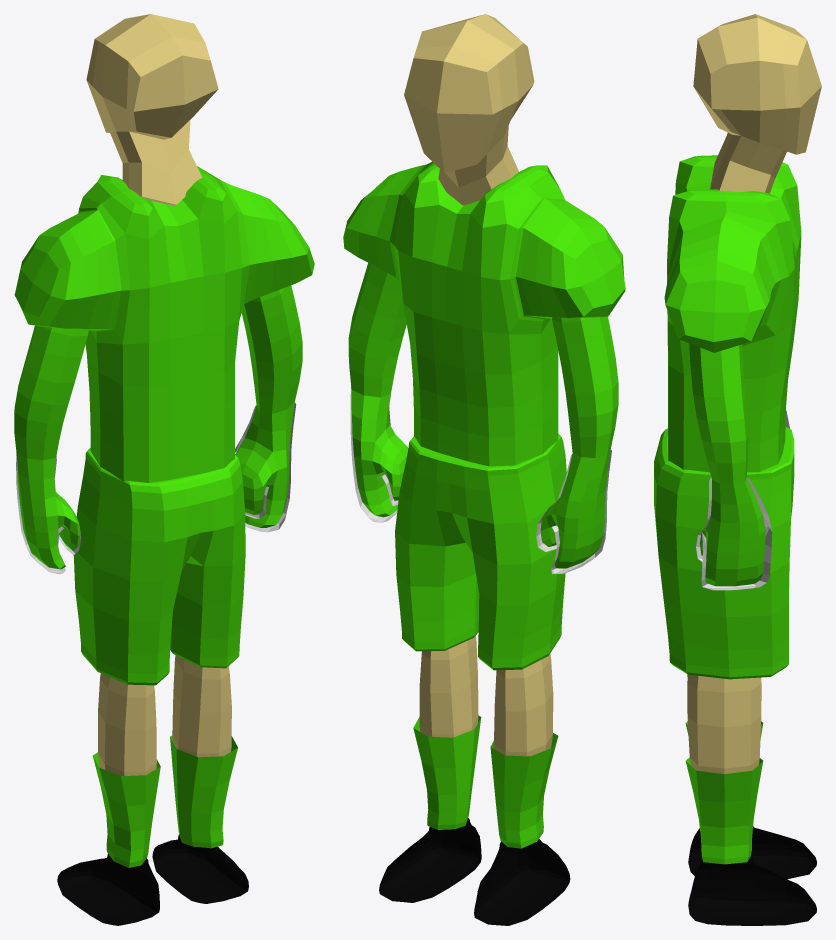
Rendered from keeper.glb.
3 views of the same model, side by side, from view 1: azimuth 30°, elevation 25°; view 2: azimuth 150°, elevation 25°; view 3: azimuth 270°, elevation 25° (orthographic).
Parts seen in each view (by area): view 1: Plane, Plane.002, Cube, Plane.009, Plane.001, Plane.005, Plane.003, Plane.006, Plane.011, Plane.013, Plane.004, Plane.007 (+1 smaller); view 2: Plane, Plane.002, Cube, Plane.009, Plane.001, Plane.006, Plane.004, Plane.005, Plane.003, Plane.011, Plane.013, Plane.010 (+1 smaller); view 3: Plane, Plane.002, Cube, Plane.001, Plane.003, Plane.004, Plane.011, Plane.006, Plane.007.
Part boxes in pixels (x1,y1,x2,y2): Plane: (14,166,314,482); Plane.002: (73,448,245,685); Cube: (86,14,218,205); Plane.009: (14,325,88,569); Plane.001: (235,285,302,527); Plane.005: (98,673,156,775); Plane.003: (172,655,231,757); Plane.006: (57,854,159,925); Plane.011: (170,735,237,848); Plane.013: (92,752,160,867); Plane.004: (152,834,248,903); Plane.007: (235,402,296,532); Plane: (343,161,625,466); Plane.002: (395,434,566,670); Cube: (404,14,534,205); Plane.009: (540,316,618,568); Plane.001: (348,263,408,517); Plane.006: (474,839,570,925); Plane.004: (379,818,481,902); Plane.005: (494,654,553,756); Plane.003: (419,635,478,737); Plane.011: (413,715,481,829); Plane.013: (490,733,558,848); Plane.010: (536,450,611,574); Plane: (664,155,801,472); Plane.002: (654,427,794,679); Cube: (693,14,821,193); Plane.001: (689,343,765,586); Plane.003: (687,674,761,774); Plane.004: (688,855,816,925); Plane.011: (685,757,763,864); Plane.006: (688,826,816,879); Plane.007: (696,477,772,590).
Bounding box in the file's own units: 1.43 × 4.36 × 0.7546.
